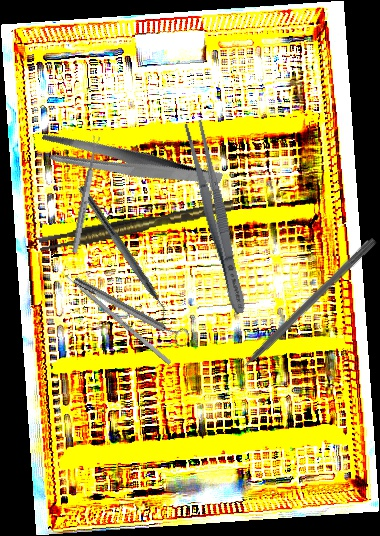Chopper: (69, 184, 177, 328)
Dressing Forceps: (35, 95, 224, 231), (180, 118, 253, 317)
Fixation Ring: (70, 270, 192, 350)
Pusher: (220, 235, 378, 388), (57, 267, 172, 366)
Surgical Spoon: (70, 135, 102, 254)
Tissue Forceps: (37, 200, 236, 252)
